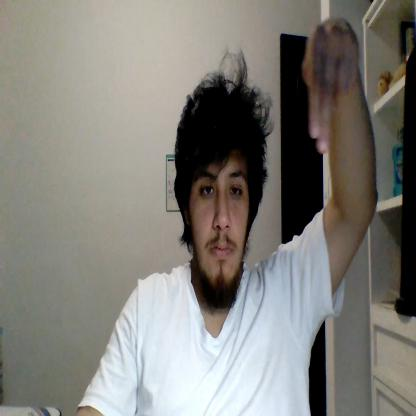N: (303, 15, 359, 154)
